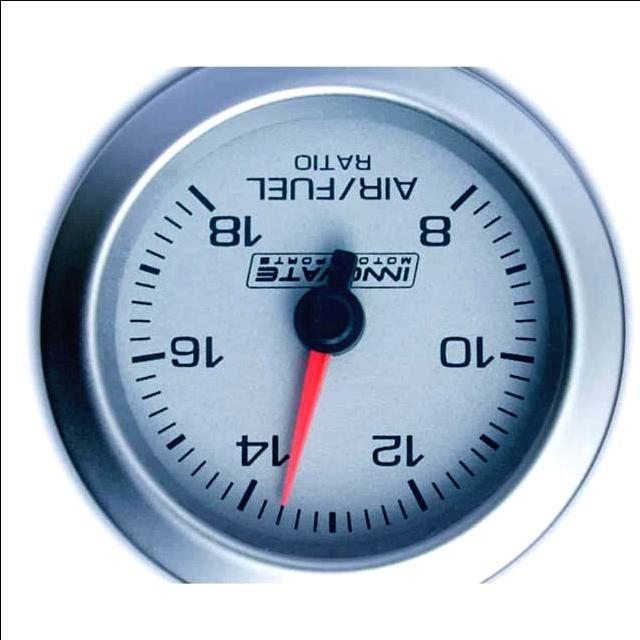Needle_Tip: (255, 469, 312, 517)
Needle_base: (275, 279, 381, 357)
max_value: (184, 197, 258, 269)
min_value: (399, 197, 464, 255)
